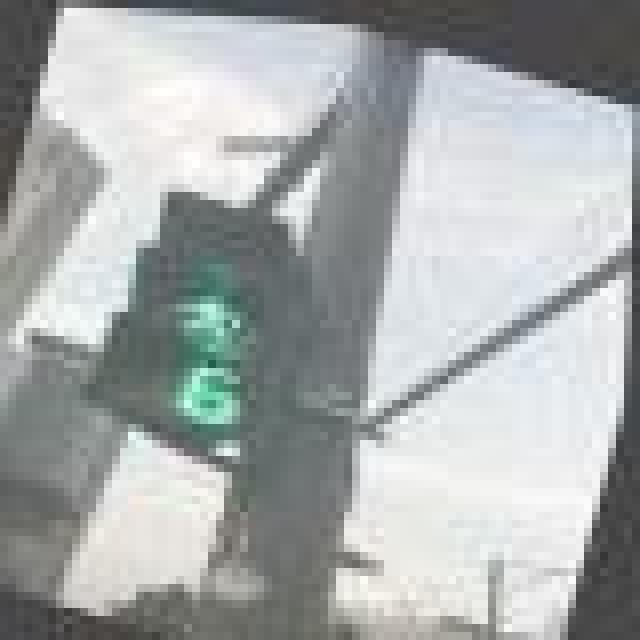greenlight: (136, 182, 286, 370)
